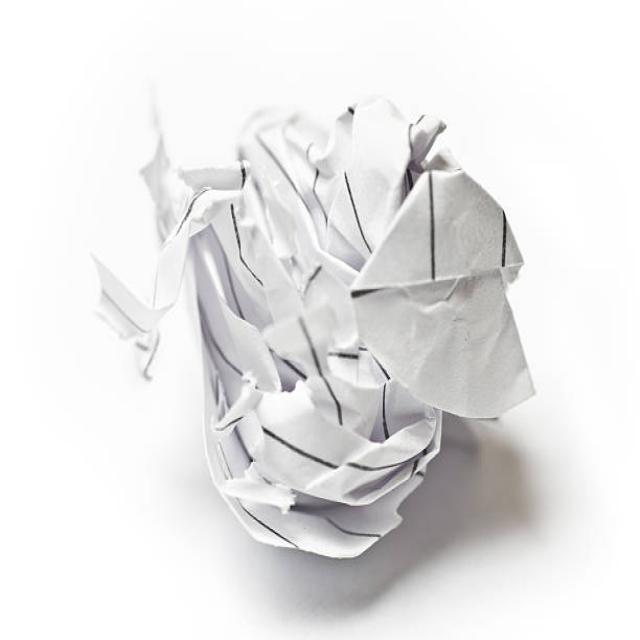electronic: (91, 89, 536, 560)
